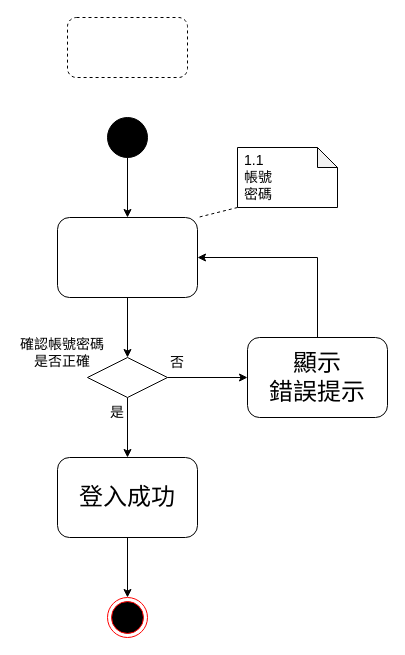
The diagram is 405 pixels wide and 655 high, and some of its shapes have lost their labels. Here are the shapes that lost their labels. From the top down, the box of each, then its label:
(66, 16, 188, 78): 登入
(56, 216, 198, 298): 輸入 帳號密碼
